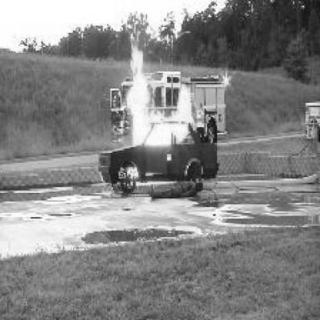Fire: (121, 40, 196, 144), (118, 162, 186, 190), (162, 152, 174, 162)
other: (214, 66, 234, 92)
